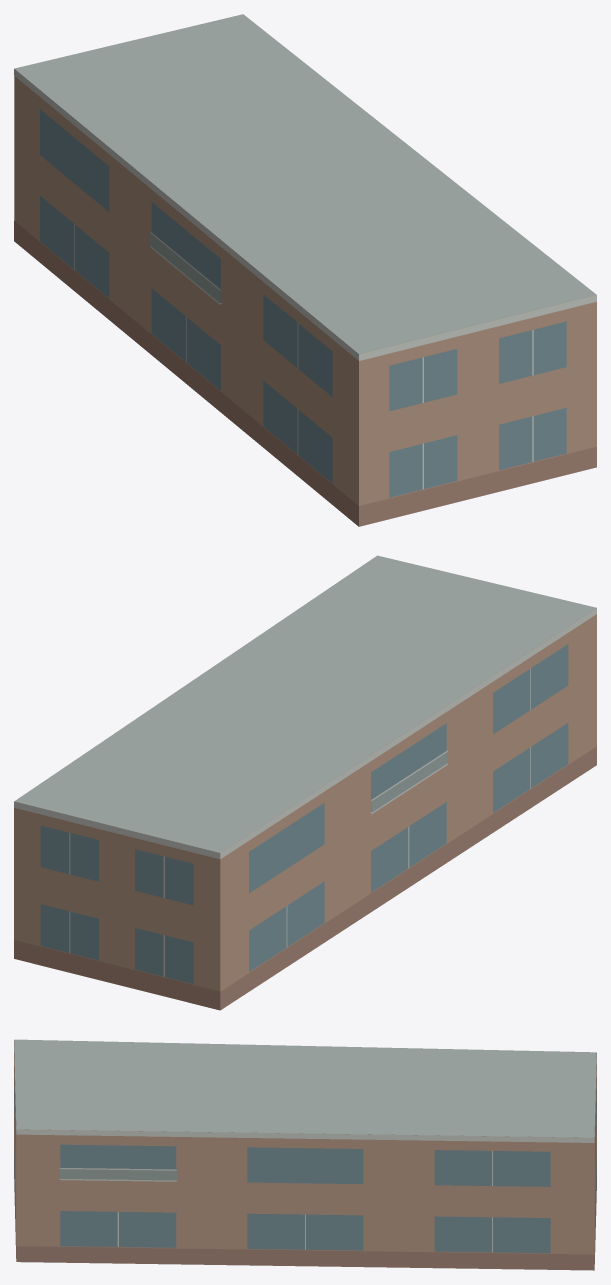
Rendered from survey-upis-32493660.glb.
The picture shows the model from 3 angles, top to bottom: view 1: azimuth 30°, elevation 25°; view 2: azimuth 150°, elevation 25°; view 3: azimuth 270°, elevation 25°; orthographic projection. The views are drawn at different scales.
Parts seen in each view (by area): view 1: survey-upis-32493660.tmp; view 2: survey-upis-32493660.tmp; view 3: survey-upis-32493660.tmp.
Part boxes in pixels (x1,y1,x2,y2): survey-upis-32493660.tmp: (14, 14, 596, 526); survey-upis-32493660.tmp: (14, 555, 596, 1010); survey-upis-32493660.tmp: (14, 1039, 596, 1270).
Size of the model in its own units: 9.69 by 6.1 by 24.28.
